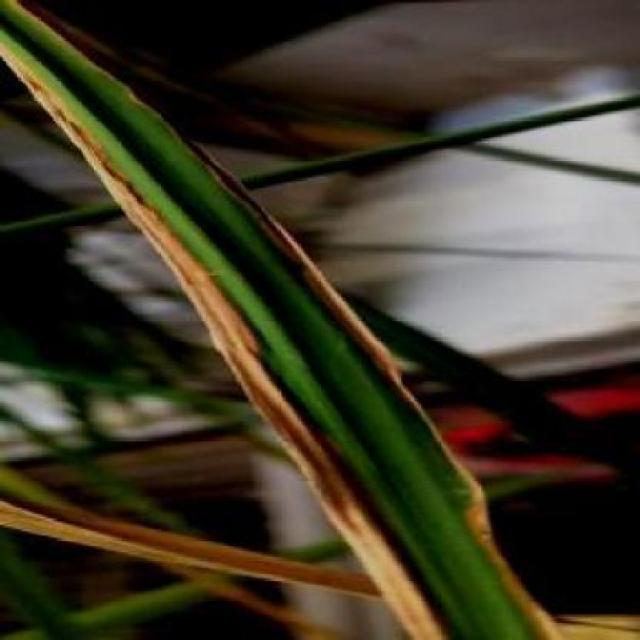Brown_Spot: (312, 378, 486, 638)
